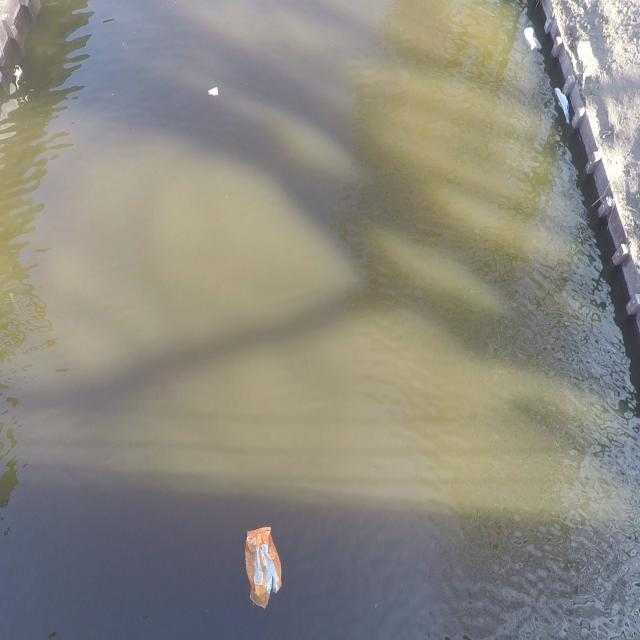Sac plastique: (242, 515, 282, 610)
